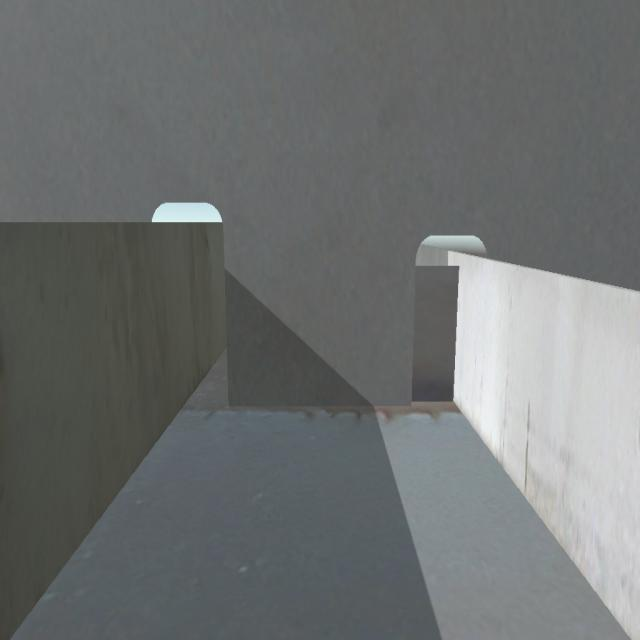fillet_yong_jeop_jang: (228, 405, 457, 412)
longi_yong_jeop_jang: (452, 264, 464, 406)
plate_behind: (415, 267, 459, 402)
